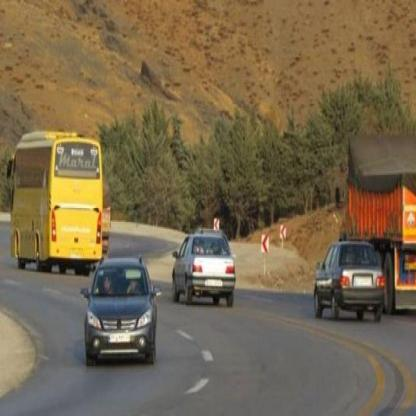Bus: (8, 134, 107, 274)
Car: (80, 252, 157, 375), (309, 236, 382, 323), (163, 226, 238, 310)
Truck: (331, 124, 416, 314)
